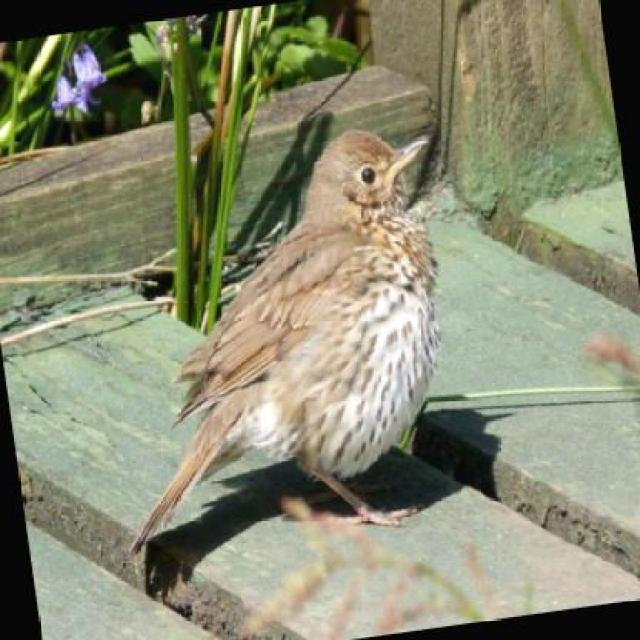Bird: (126, 123, 447, 562)
